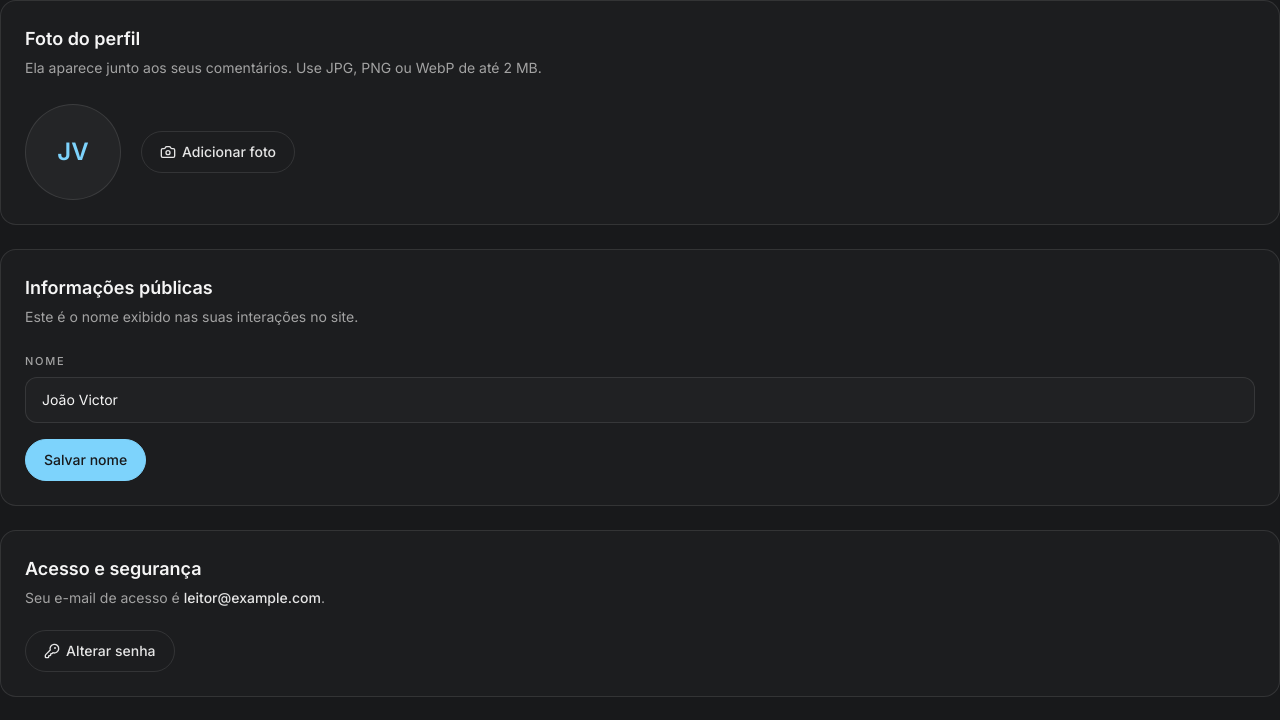
conteúdo da página de perfil › mantém o erro da ação visível em um card flutuante sem exigir rolagem
Replace the text in the field labelled "Nome" with "Maria Silva" at (640,400), box [25, 377, 1255, 423]
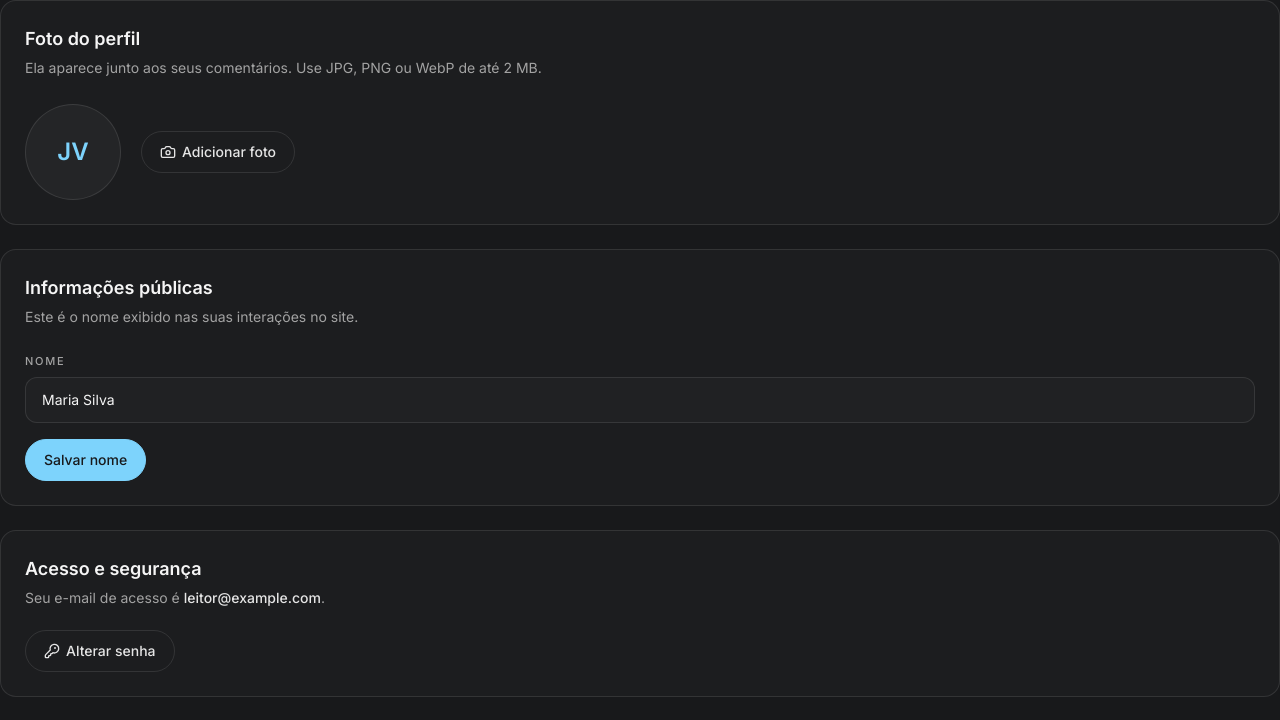
Click the button "Salvar nome".
click(86, 460)  # box [25, 439, 146, 481]
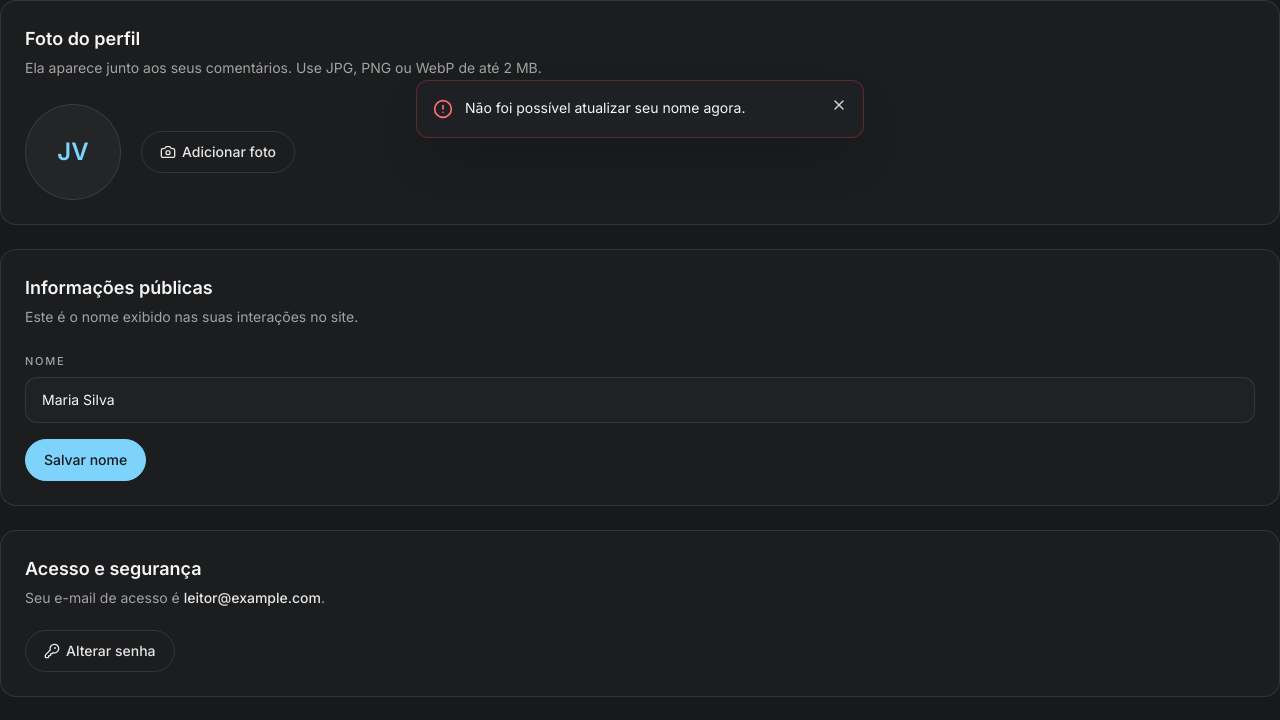
Expected: the message reads "Não foi possível atualizar seu nome agora.", [465, 99, 745, 116]
